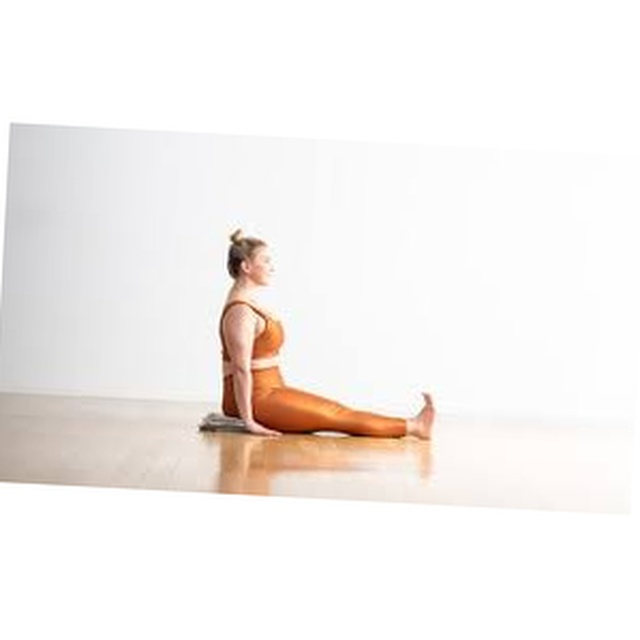Staff_Pose: (218, 228, 436, 446)
